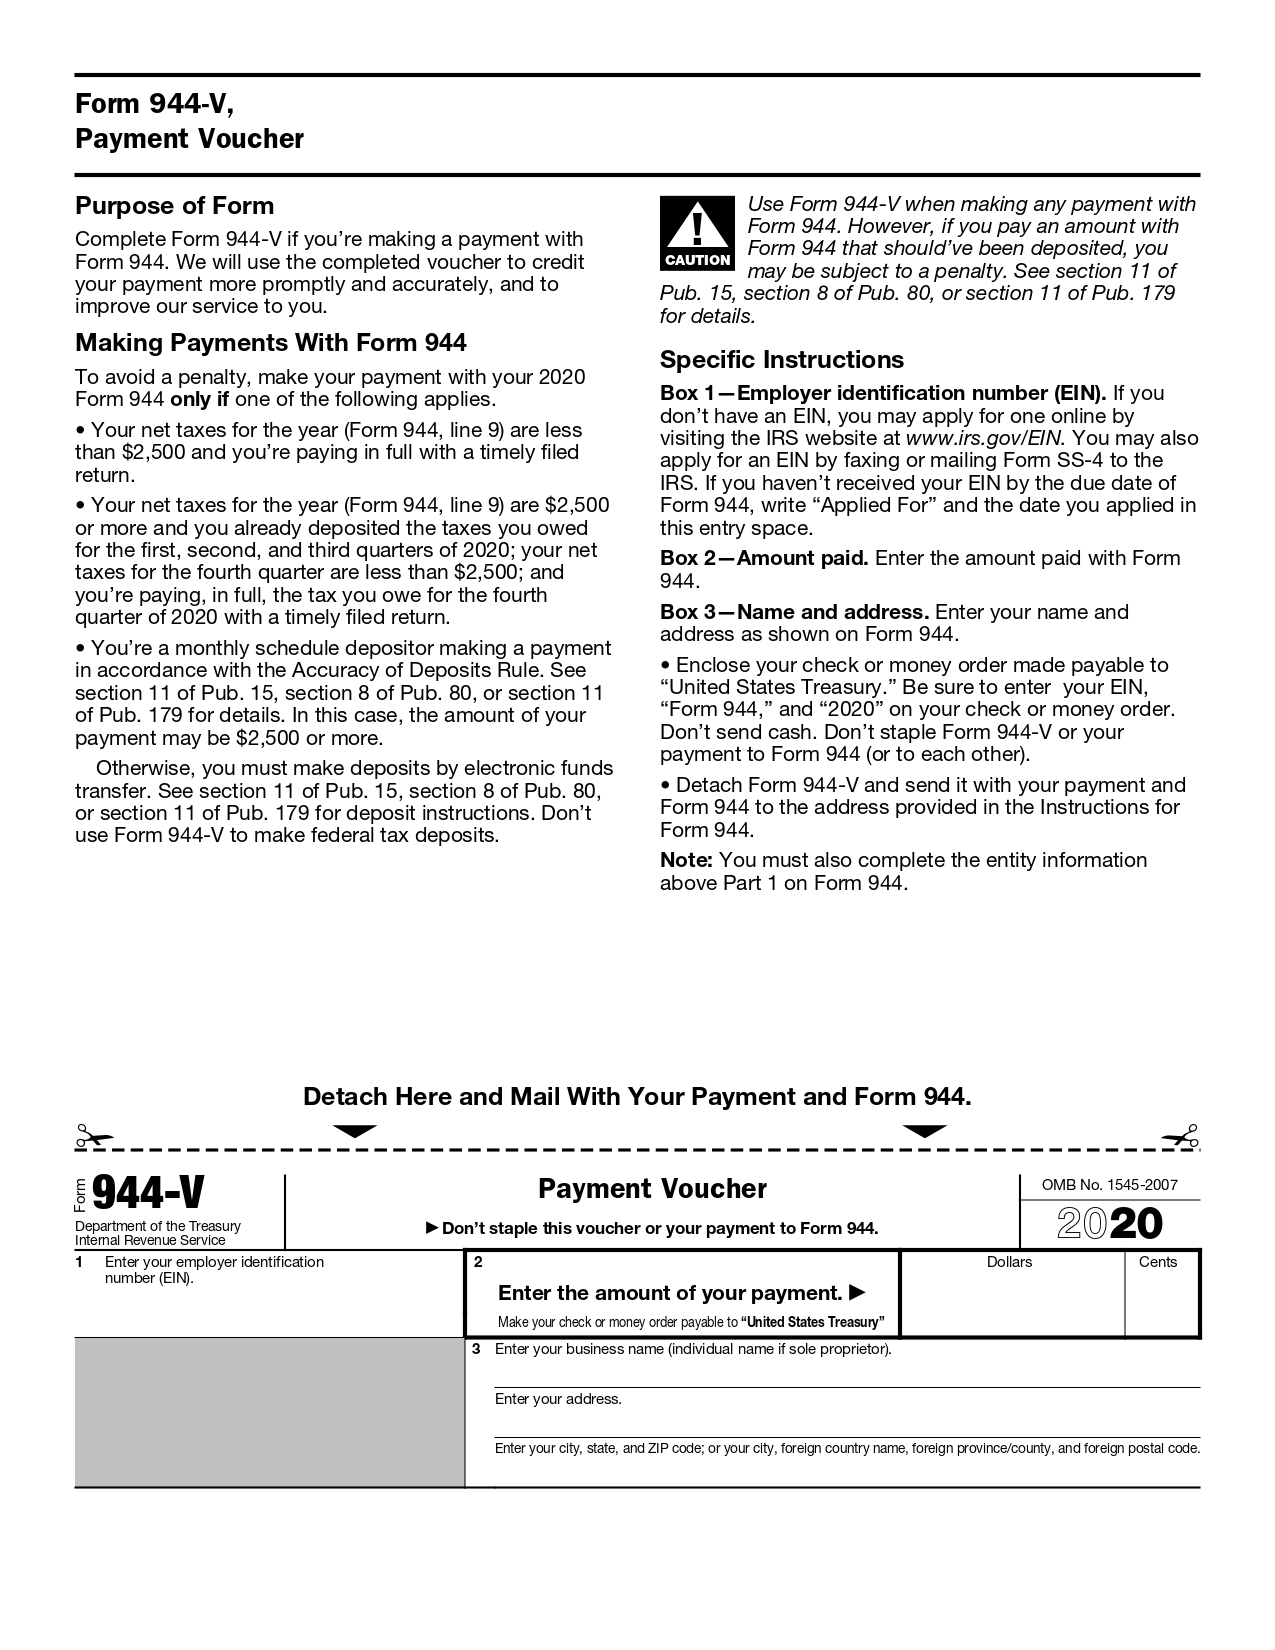form: (66, 1150, 1221, 1505)
